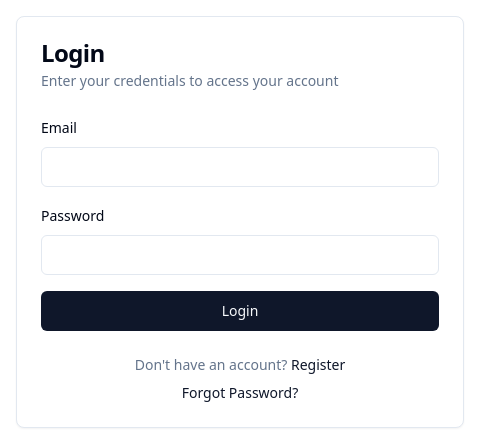
Scenario: LoginPage › Successful Login › shows loading state while logging in
The width and height of the screenshot is (481, 445).
Type "test@example.com" into the field labelled "Email" at (240, 167), box x1=41 y1=147 x2=439 y2=187
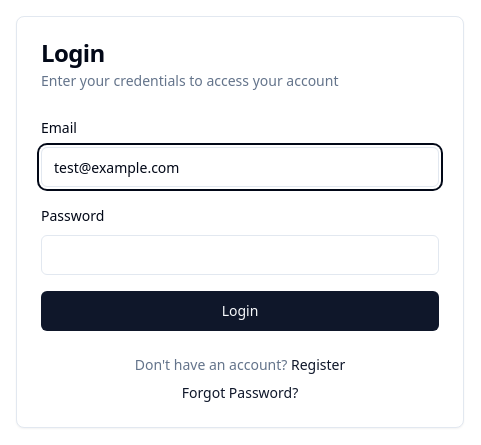
Type "password123" into the password field labelled "Password" at (240, 255), box x1=41 y1=235 x2=439 y2=275
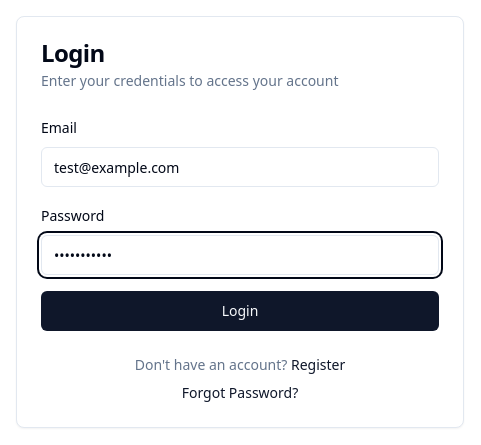
Click the button "Login" at (240, 311), box x1=41 y1=291 x2=439 y2=331
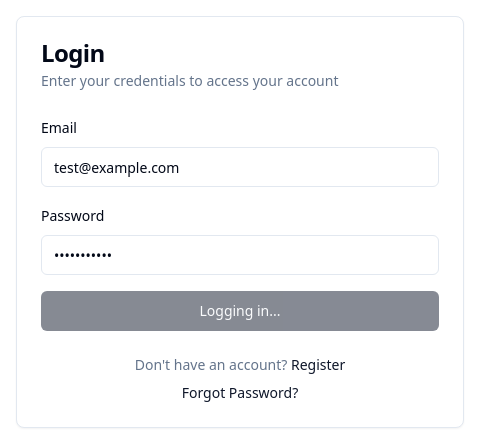
Check: the button "Logging in..." is disabled, box x1=41 y1=291 x2=439 y2=331
